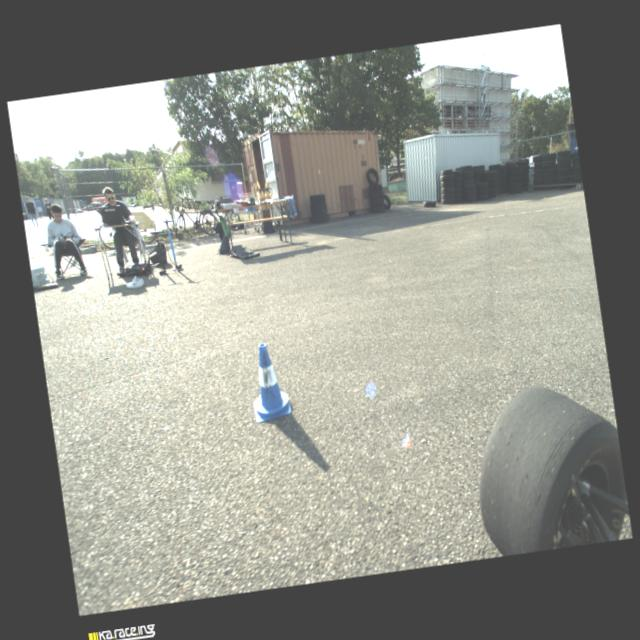blue_cone: (245, 341, 292, 423)
yellow_cone: (263, 182, 271, 196), (256, 185, 264, 198), (256, 182, 260, 194)
